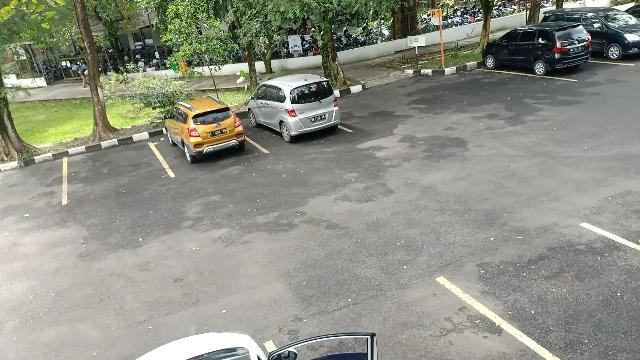empty: (472, 228, 640, 358), (61, 139, 162, 205)
occupied: (248, 93, 344, 153), (158, 112, 250, 174), (480, 33, 594, 80), (144, 339, 276, 359)
